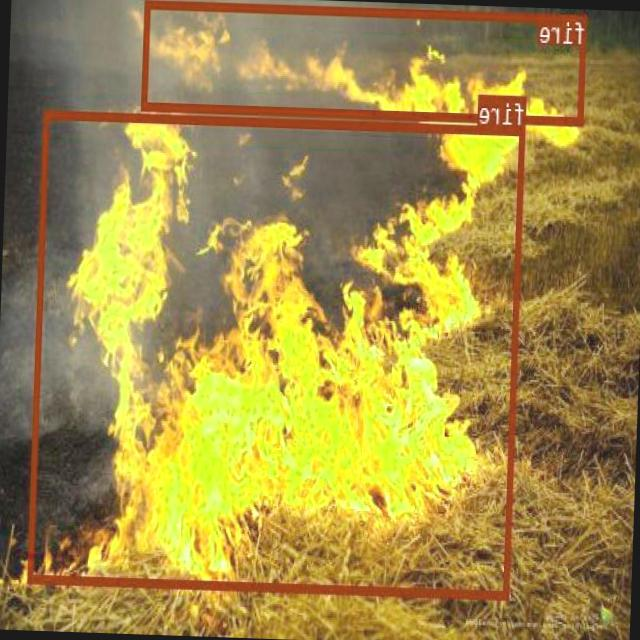fire: (29, 108, 526, 598), (142, 0, 587, 124)
